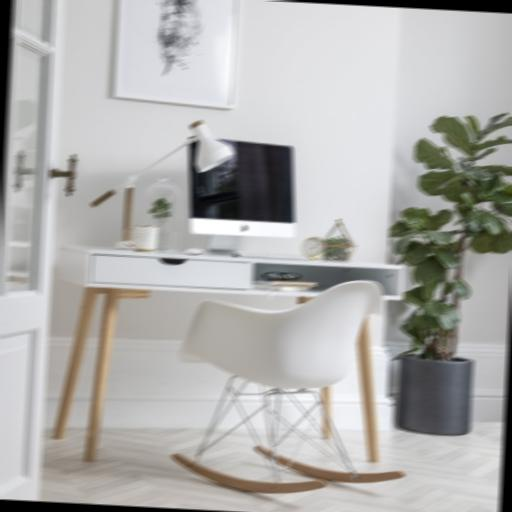Door: (0, 0, 66, 501)
chair: (168, 270, 415, 500)
desk: (46, 244, 406, 476)
wall: (42, 0, 415, 445), (378, 7, 512, 423)
